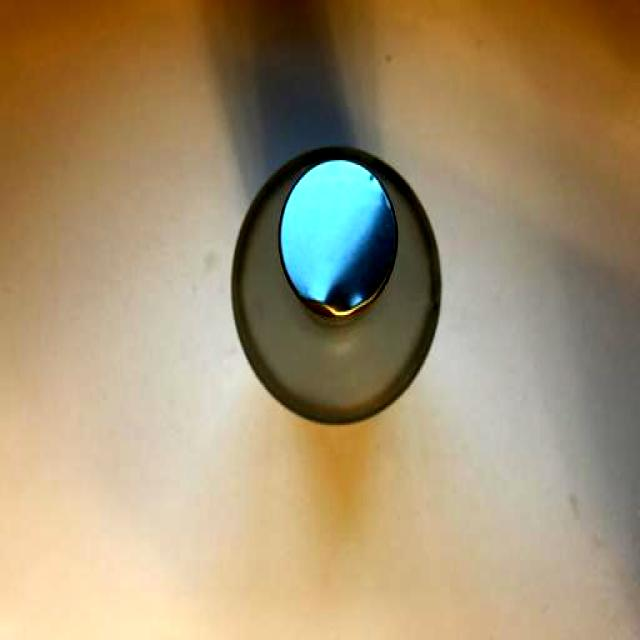Metal: (274, 153, 409, 328)
